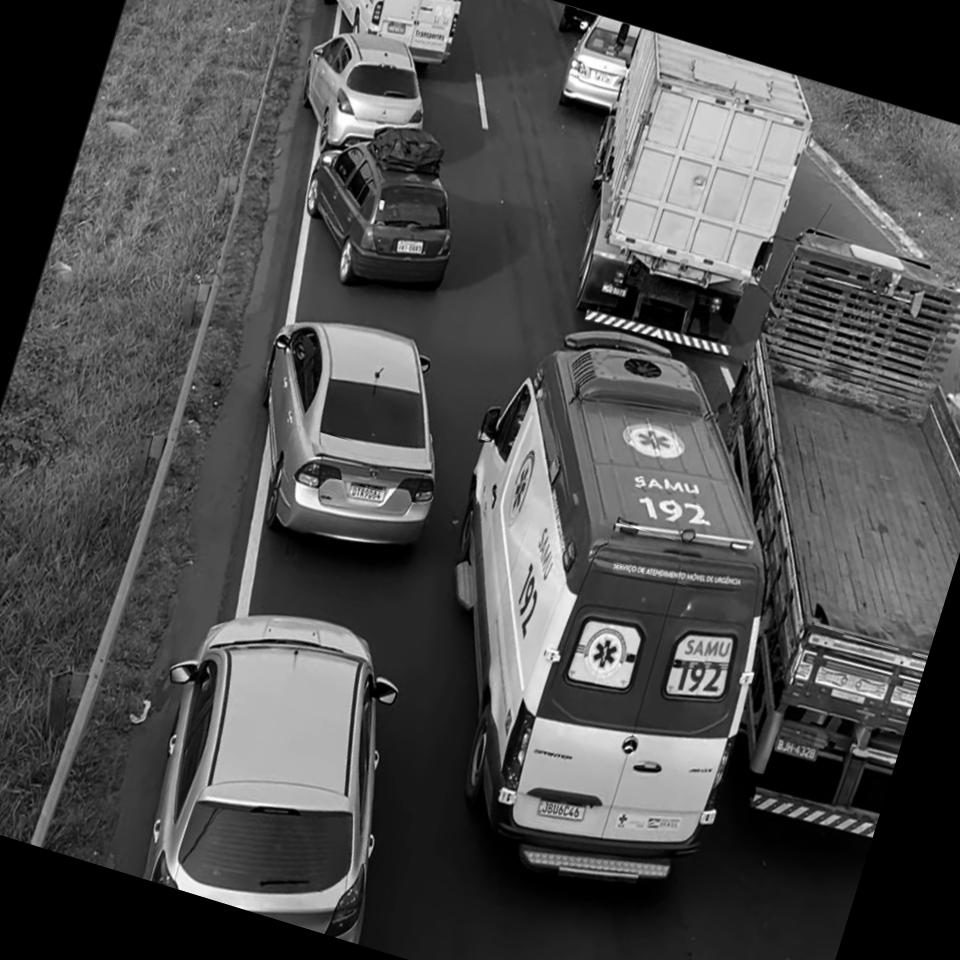bombeiro: (359, 294, 852, 925)
